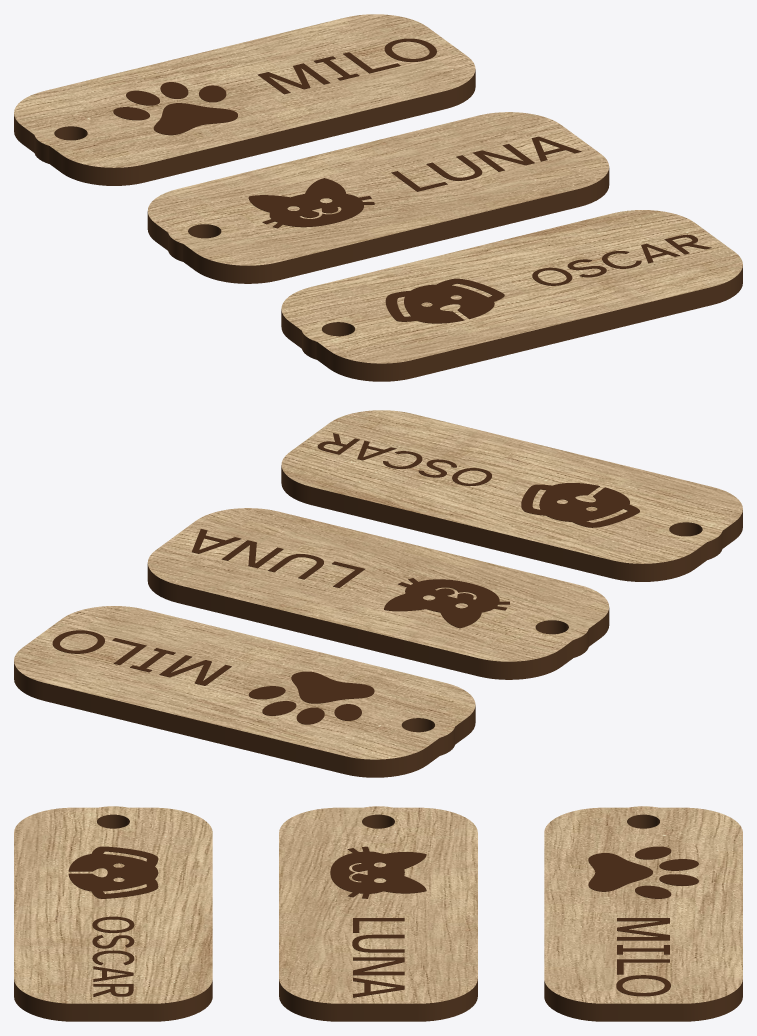
Rendered from symbol-tags.glb.
3 views of the same model, one above another, from view 1: azimuth 30°, elevation 25°; view 2: azimuth 150°, elevation 25°; view 3: azimuth 270°, elevation 25° (orthographic).
Parts seen in each view (by area): view 1: body2, body1, body0, engrave0, engrave1, engrave2; view 2: body2, body1, body0, engrave0, engrave1, engrave2; view 3: body2, body0, body1, engrave1, engrave0, engrave2.
Boxes of the visible parts, x1=… form: body2: x1=281, y1=210, x2=742, y2=381; body1: x1=147, y1=112, x2=609, y2=283; body0: x1=14, y1=14, x2=475, y2=185; engrave0: x1=113, y1=38, x2=436, y2=135; engrave1: x1=248, y1=136, x2=581, y2=228; engrave2: x1=385, y1=234, x2=711, y2=323; body2: x1=281, y1=410, x2=742, y2=581; body1: x1=147, y1=508, x2=609, y2=679; body0: x1=14, y1=606, x2=475, y2=777; engrave0: x1=52, y1=630, x2=374, y2=724; engrave1: x1=192, y1=529, x2=509, y2=628; engrave2: x1=317, y1=433, x2=639, y2=527; body2: x1=14, y1=806, x2=212, y2=1021; body0: x1=544, y1=806, x2=742, y2=1021; body1: x1=279, y1=806, x2=477, y2=1021; engrave1: x1=330, y1=846, x2=426, y2=997; engrave0: x1=588, y1=846, x2=698, y2=996; engrave2: x1=68, y1=846, x2=158, y2=996.
Size of the model in its own units: 0.0705 by 0.00306 by 0.11.
Materials: 3 (1 with a texture image).
